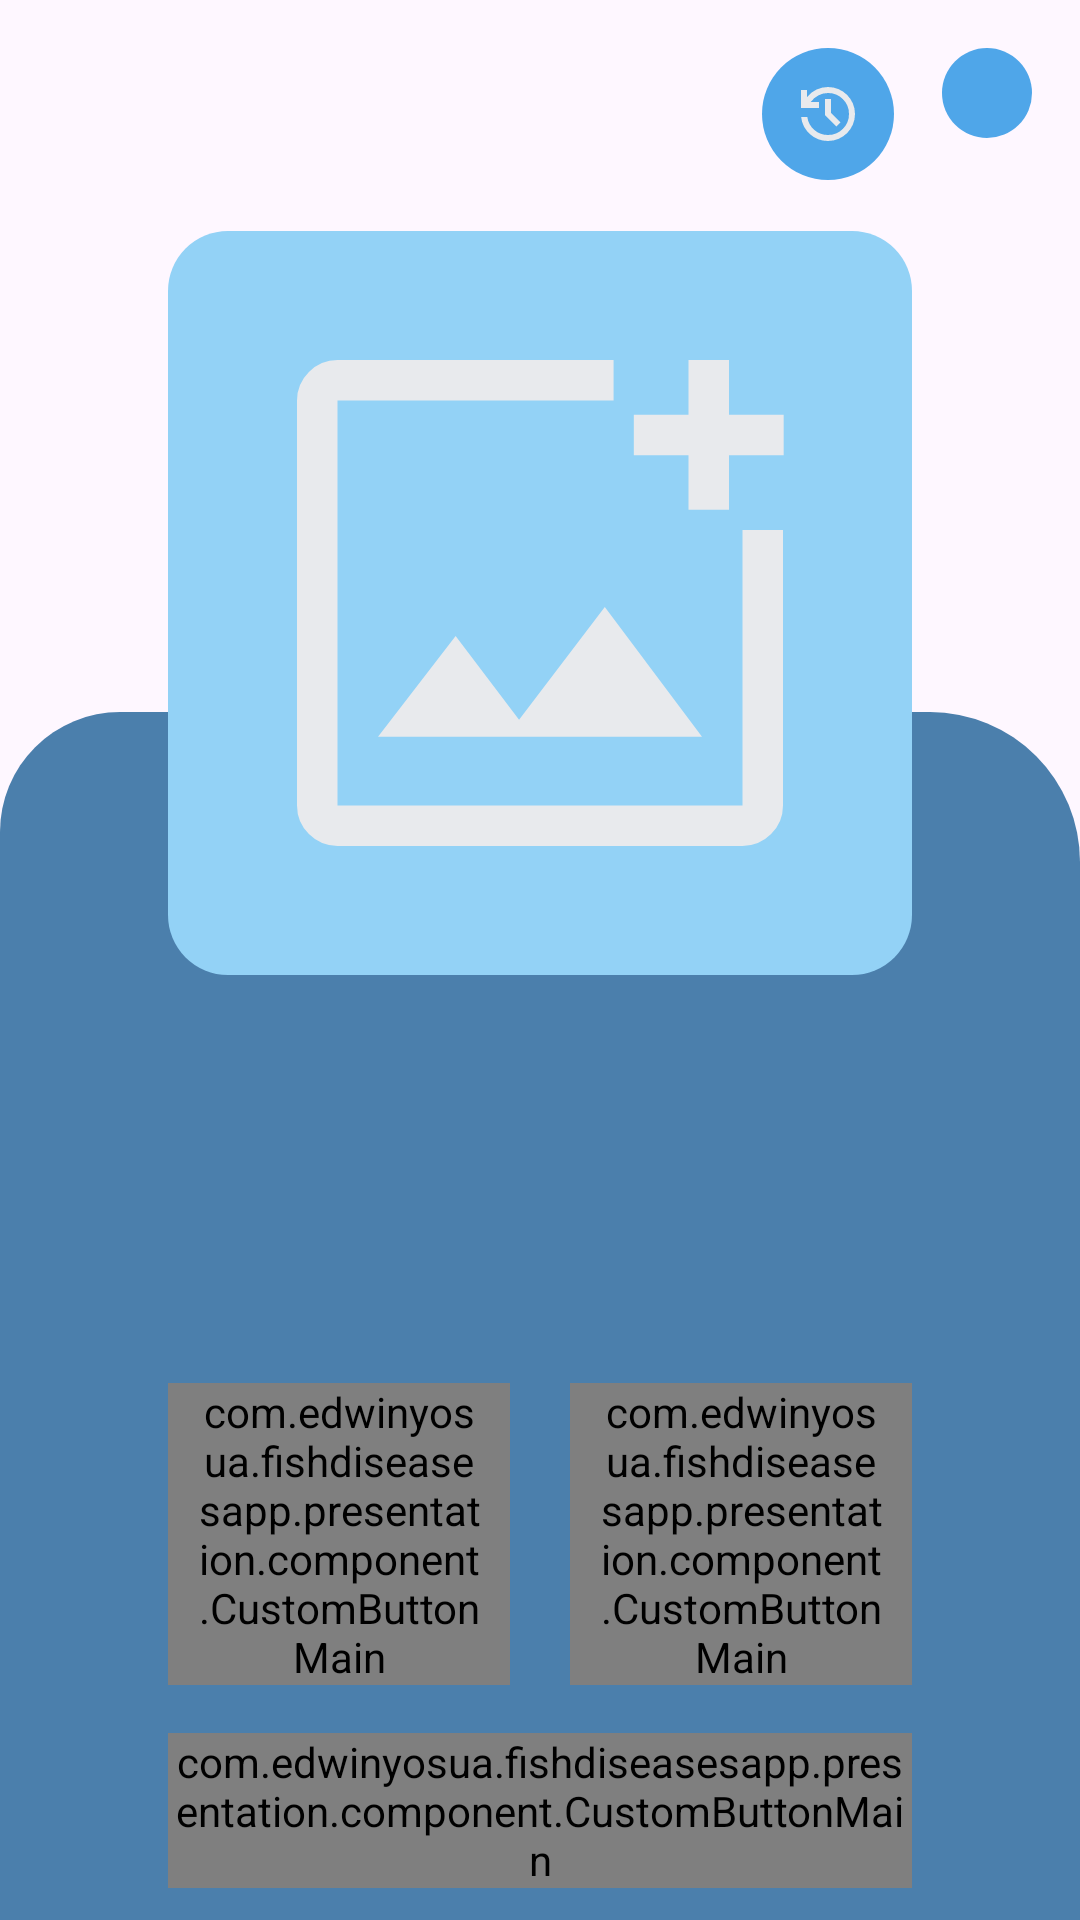

Where icons sit on this 1080px×1920px app screen, as bbox=(x1, y1, x2, y2):
history eaed: bbox=(762, 48, 894, 180)
